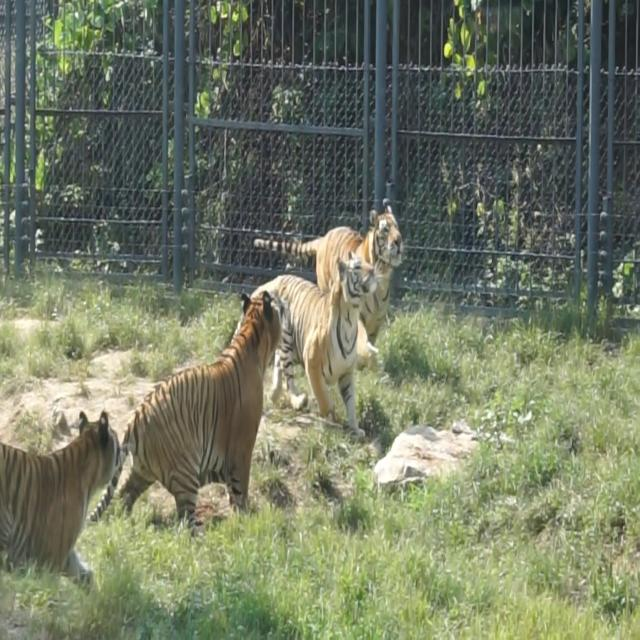Tiger: (115, 278, 284, 536), (241, 250, 376, 438), (0, 408, 120, 594), (249, 197, 404, 339)
